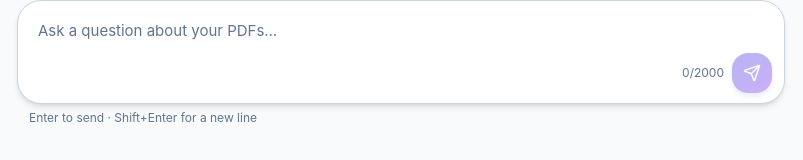
it: ChatInput › sends the trimmed question on Enter and clears the box on success
Step 1. Type "  What is RAG?  " into the text box named "Your question" → (401, 31), box [26,9,776,53]
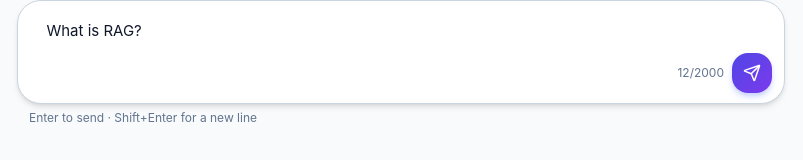
Step 2. Press Enter in the text box named "Your question", box [26,9,776,53]
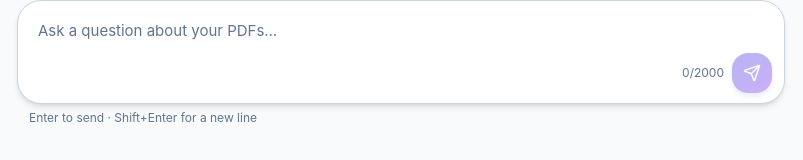
Now the text box named "Your question" is empty, box [26,9,776,53]
